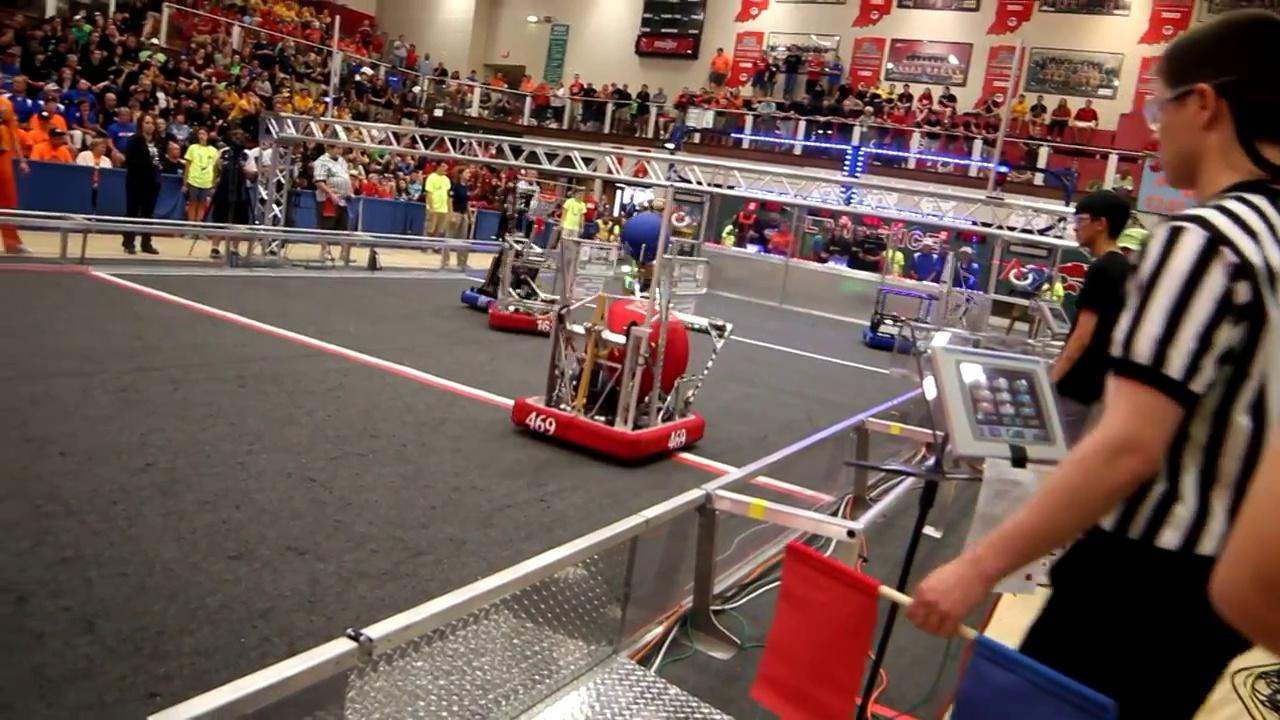robot: (509, 290, 737, 470), (486, 235, 560, 338), (462, 210, 525, 315), (861, 282, 938, 357)
